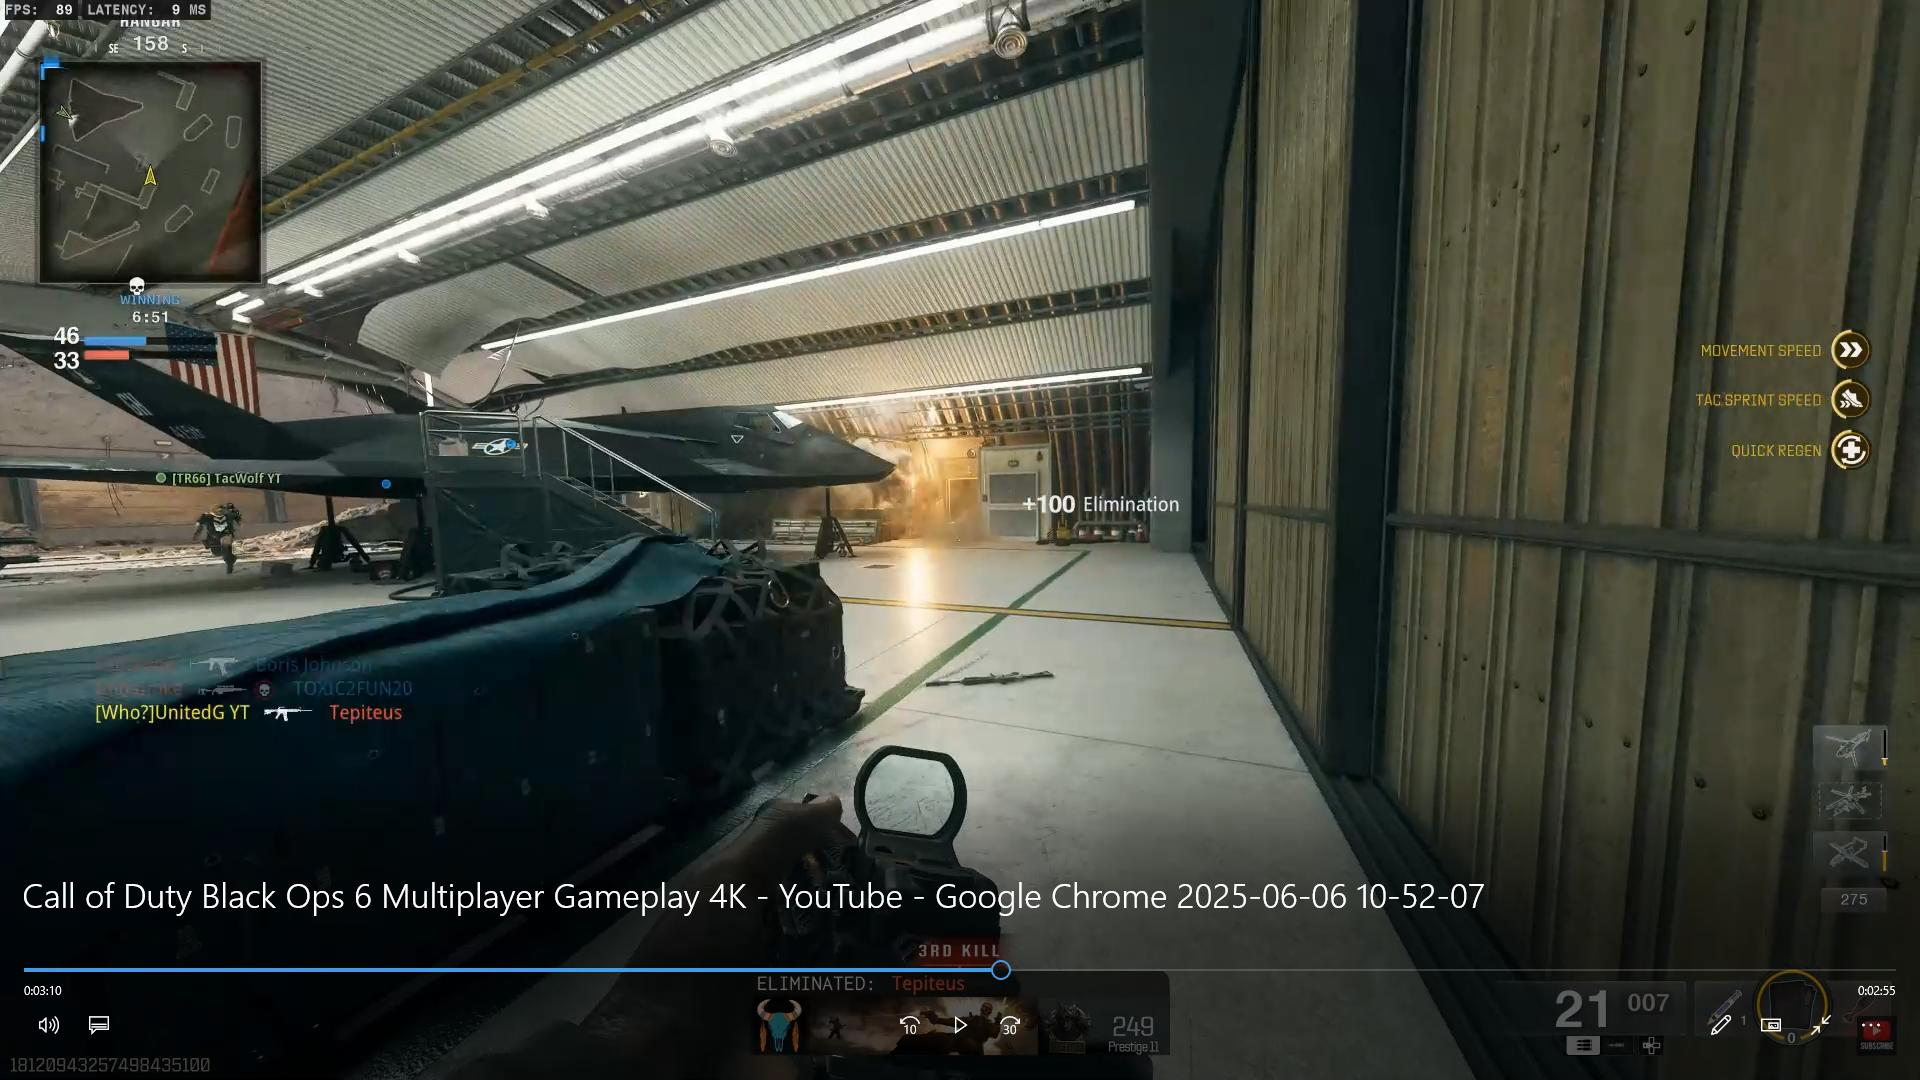Enemy: (182, 489, 256, 580)
